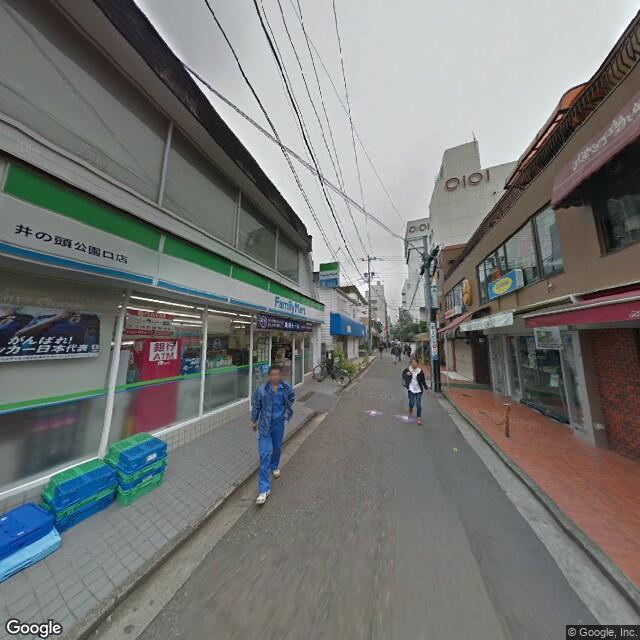family_mart: (2, 158, 327, 327), (270, 290, 309, 320), (319, 257, 340, 285)
